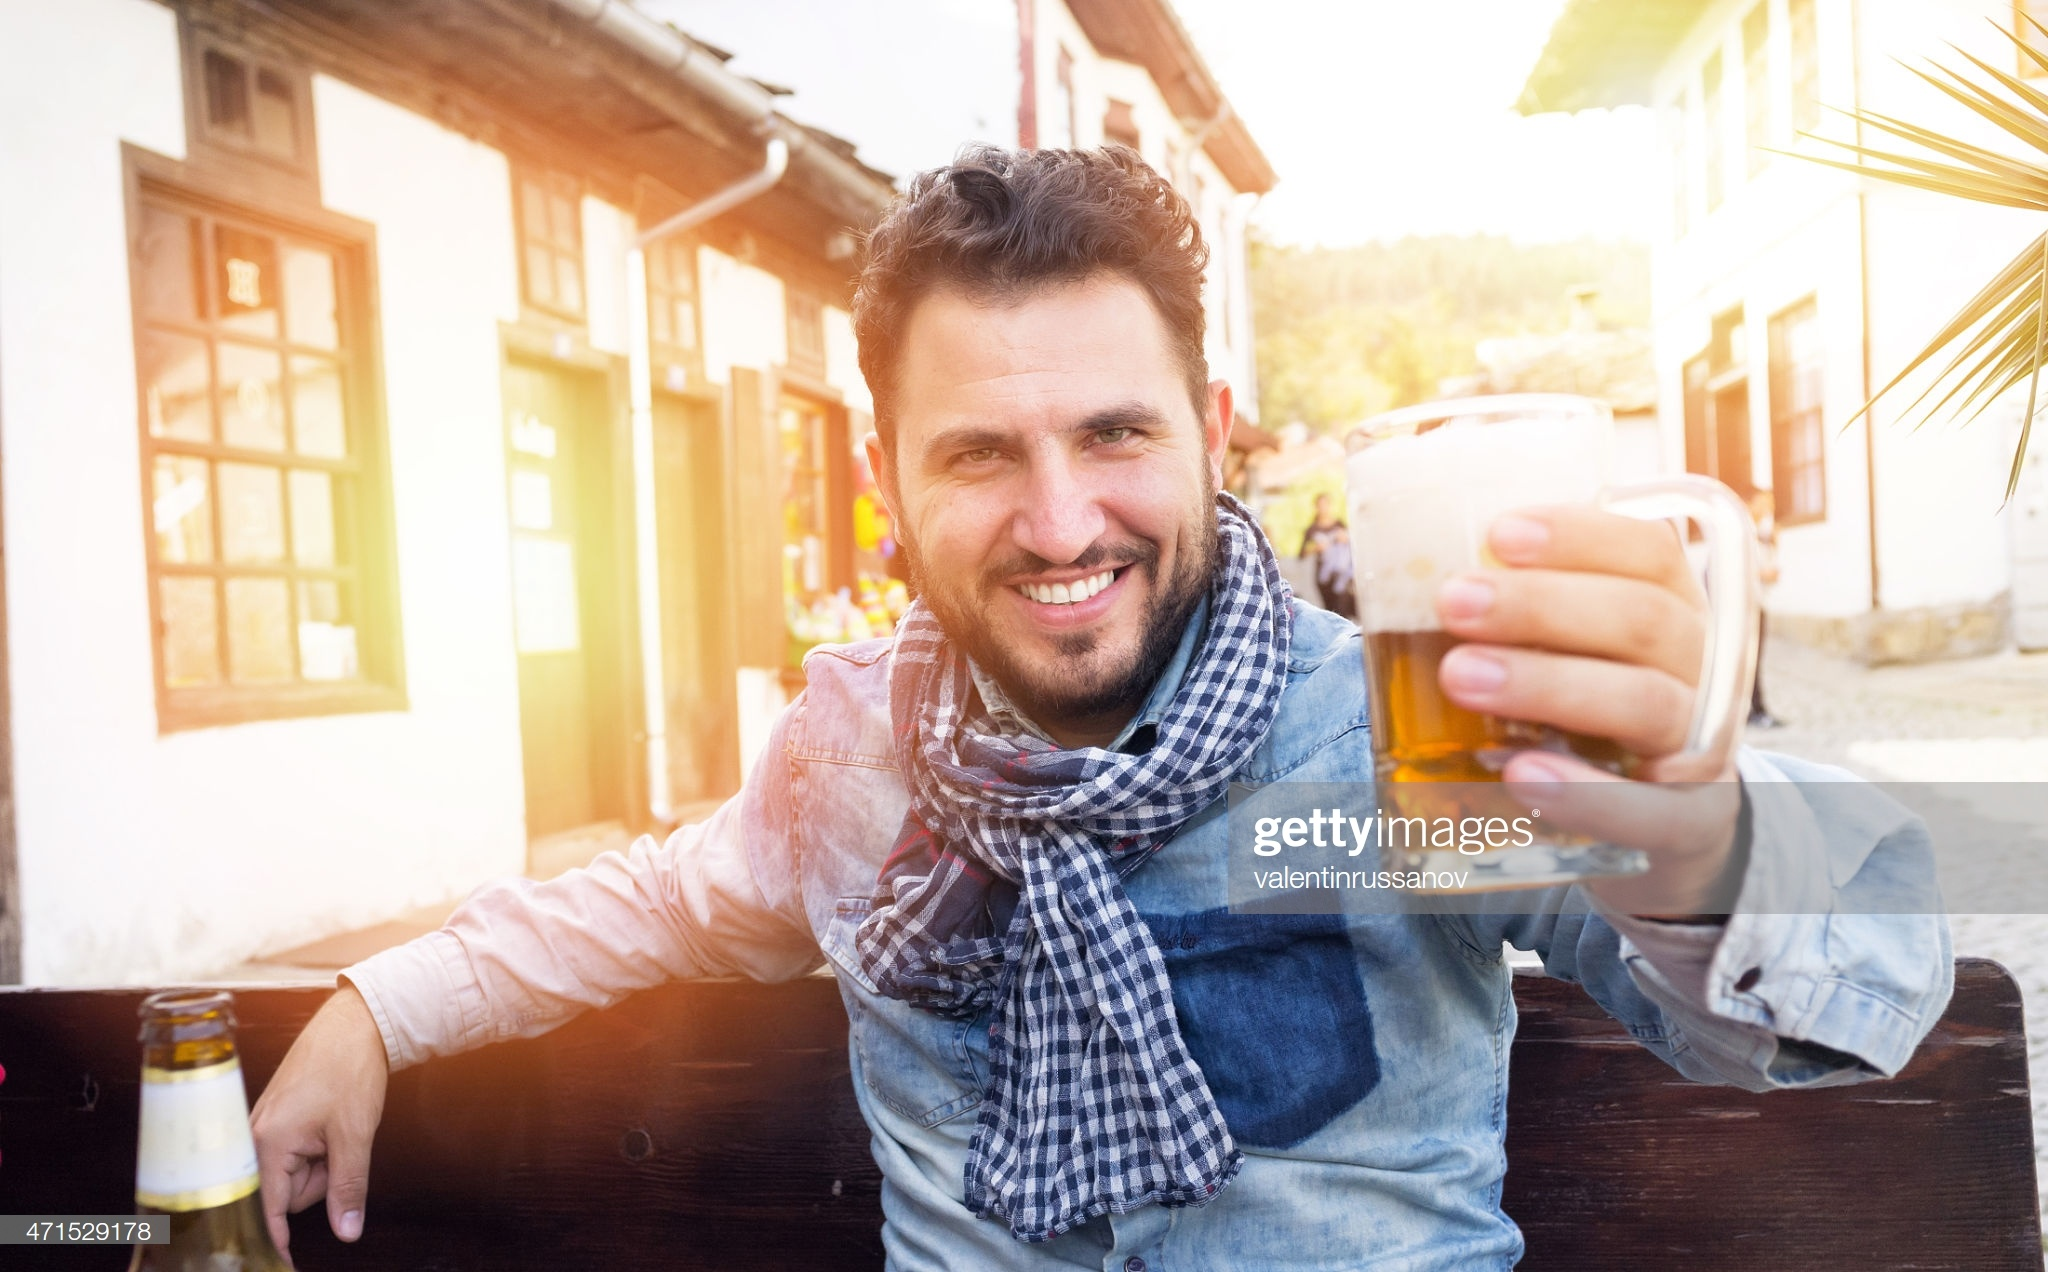glassBeer: (1332, 393, 1736, 917)
